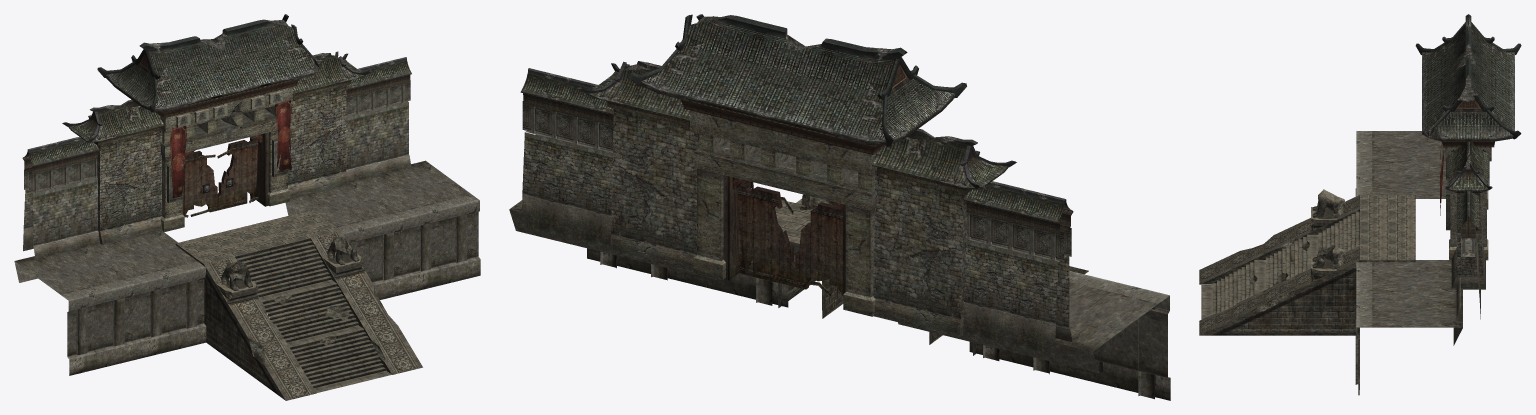
File: b_general_stair_01.fbx
The picture shows the model from 3 angles, left to right: view 1: azimuth 30°, elevation 25°; view 2: azimuth 150°, elevation 25°; view 3: azimuth 270°, elevation 25°; orthographic projection. The views are drawn at different scales.
Parts seen in each view (by area): view 1: a1s-002-inwall-02; view 2: a1s-002-inwall-02; view 3: a1s-002-inwall-02.
Boxes of the visible parts, left/top/right/bottom form: a1s-002-inwall-02: left=14, top=14, right=480, bottom=400; a1s-002-inwall-02: left=509, top=14, right=1170, bottom=400; a1s-002-inwall-02: left=1199, top=14, right=1521, bottom=395.
Bounding box in the file's own units: 34.12 × 20.58 × 23.62.
